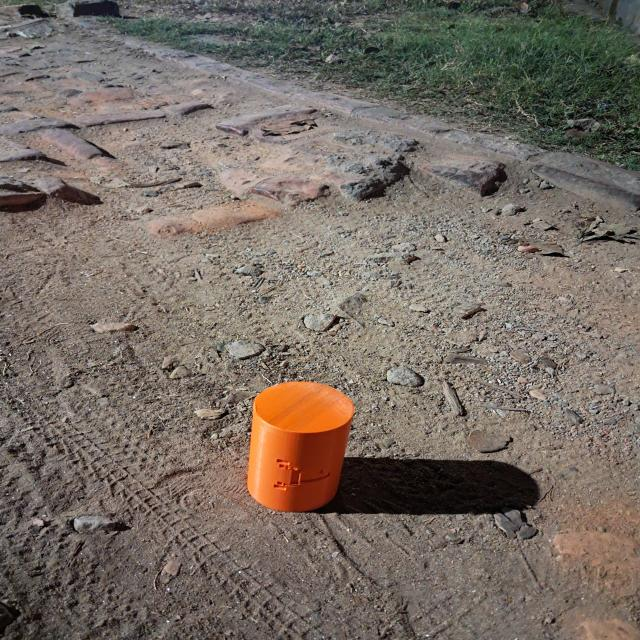Cylinder: (245, 380, 355, 512)
